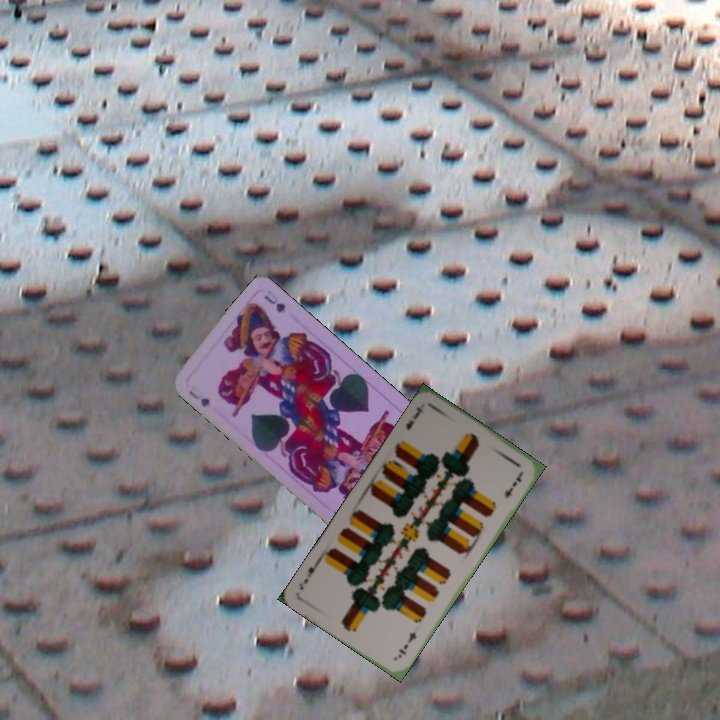E7: (394, 627, 419, 661), (402, 403, 426, 432)
GU: (185, 387, 213, 410)
